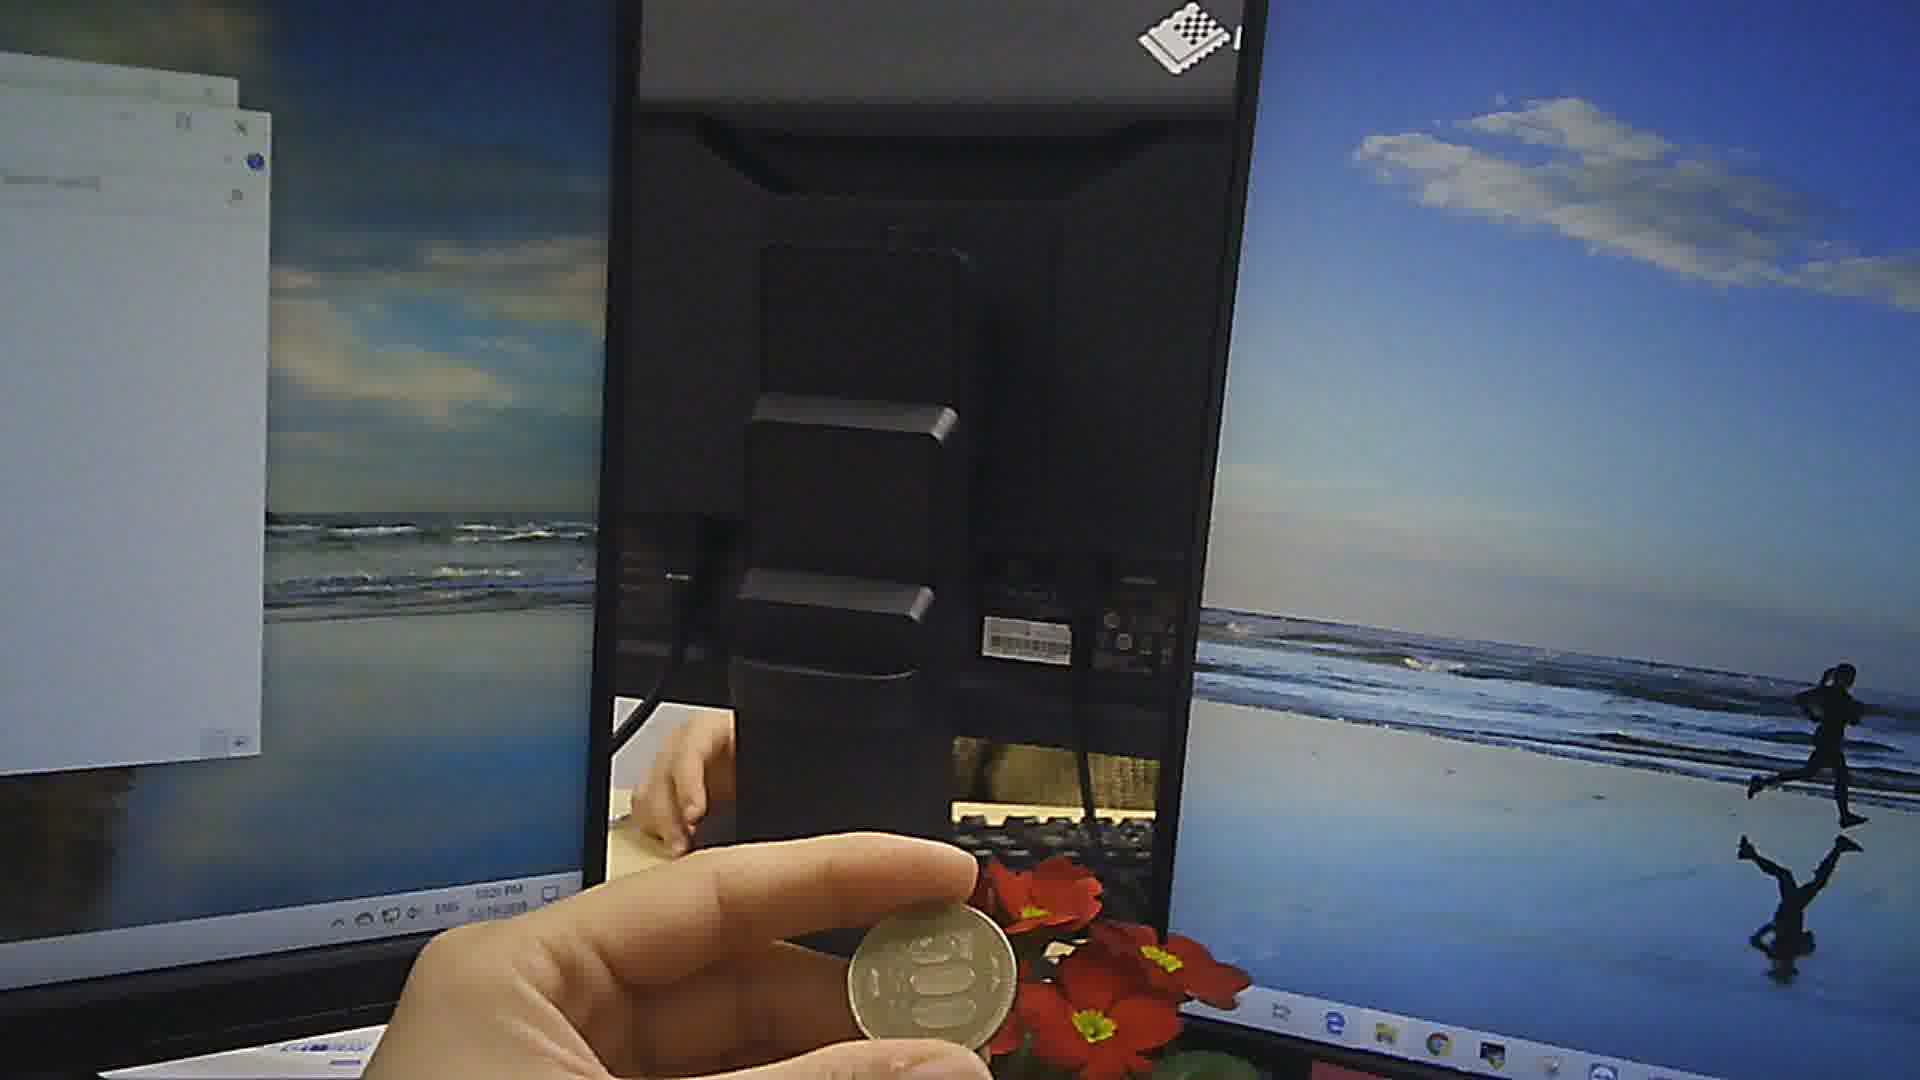500 Yen: (837, 897, 1015, 1054)
